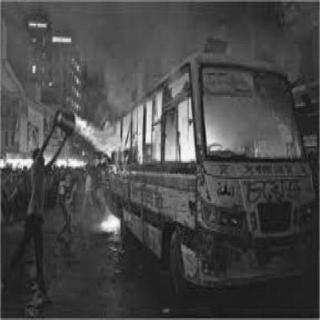Fire: (167, 106, 229, 162)
other: (23, 18, 76, 50)
